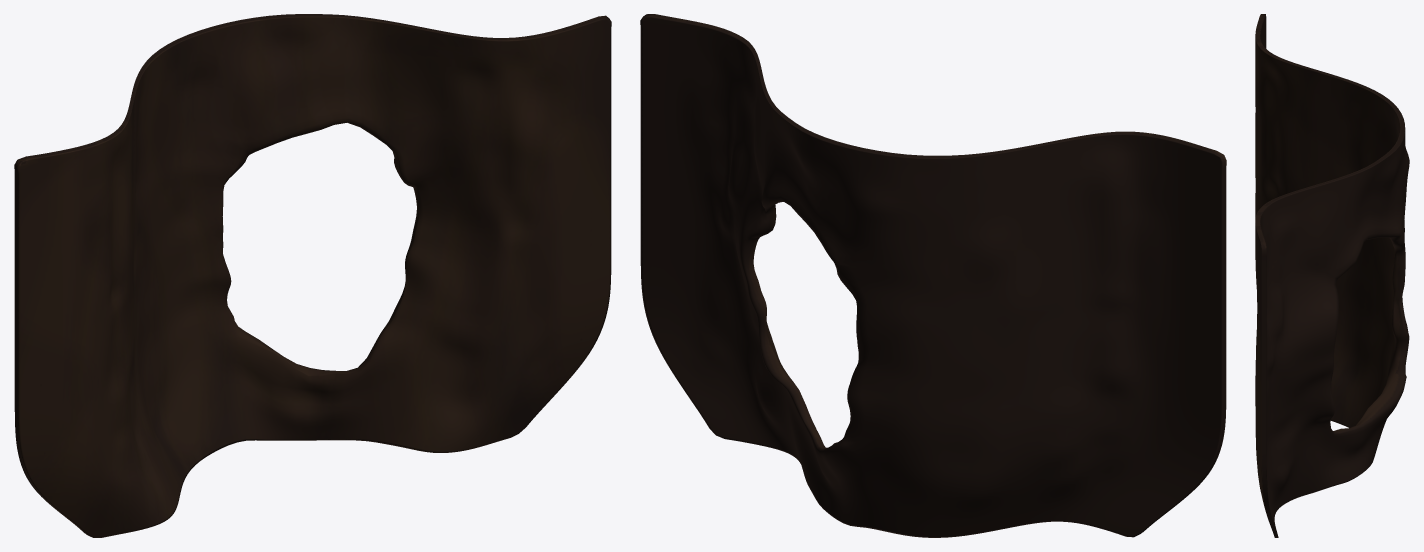
Rendered from tree_bark02.glb.
The picture shows the model from 3 angles, left to right: view 1: azimuth 30°, elevation 25°; view 2: azimuth 150°, elevation 25°; view 3: azimuth 270°, elevation 25°; orthographic projection. The views are drawn at different scales.
Parts seen in each view (by area): view 1: tree.001; view 2: tree.001; view 3: tree.001.
Boxes of the visible parts, x1,y1,x2,y2 form: tree.001: [14, 14, 611, 537]; tree.001: [640, 14, 1226, 537]; tree.001: [1255, 14, 1409, 537].
Size of the model in its own units: 242 by 159 by 67.55.
Materials: 1 (1 with a texture image).
